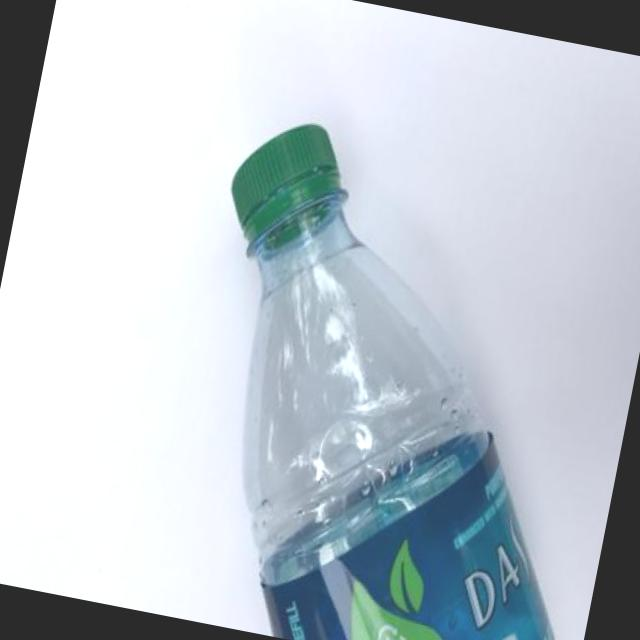Recycle: (149, 107, 640, 640)
